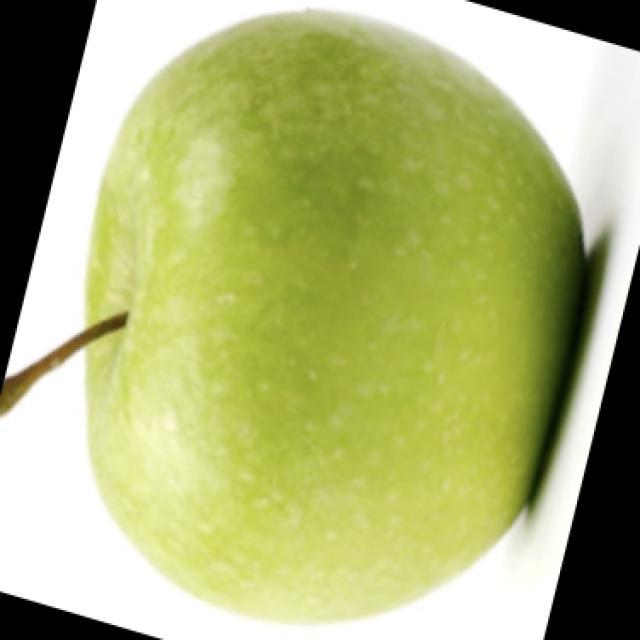Fresh Apple: (93, 28, 585, 597)
